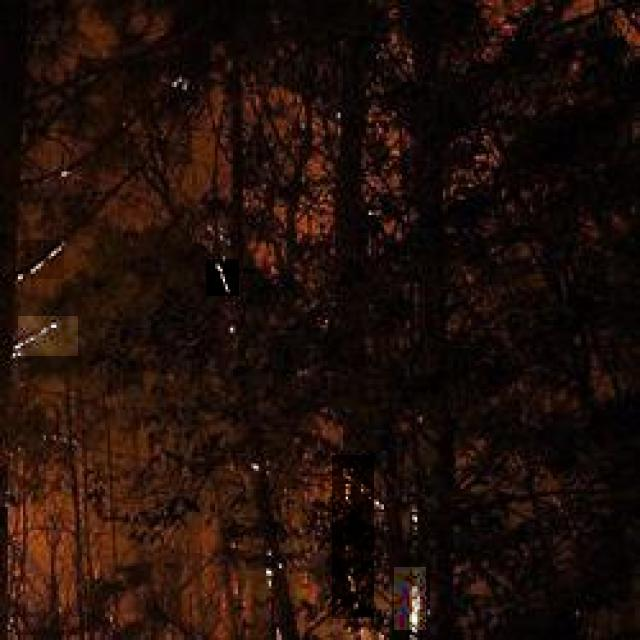Fire: (332, 455, 374, 619), (18, 316, 78, 356), (394, 567, 426, 630), (13, 240, 64, 279), (206, 259, 239, 296)
